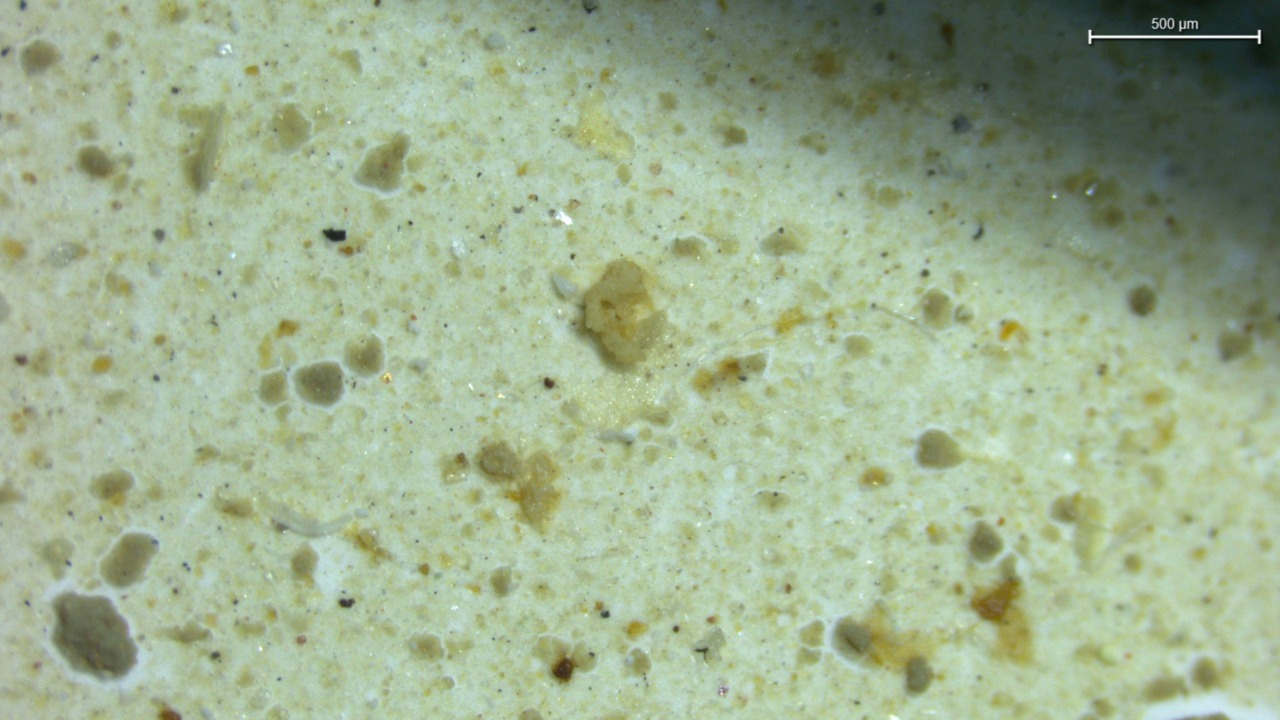microplastic_fragment: (584, 259, 666, 364)
